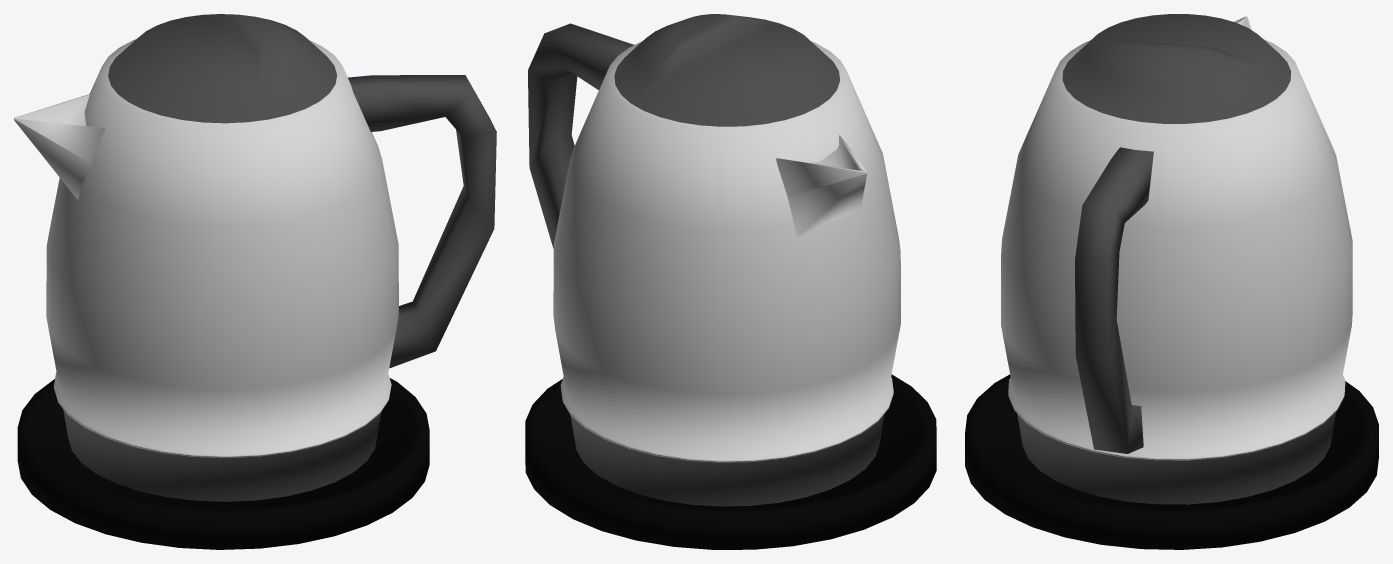
The model's file is KettleSep.glb.
3 renders of one model, left to right at view 1: azimuth 30°, elevation 25°; view 2: azimuth 150°, elevation 25°; view 3: azimuth 270°, elevation 25°, orthographic.
Visible parts, largest first — view 1: kettle.001, kettleBottom; view 2: kettle.001, kettleBottom; view 3: kettle.001, kettleBottom.
Boxes of the visible parts, bbox=[...] form: kettle.001: bbox=[14, 14, 496, 501]; kettleBottom: bbox=[17, 378, 429, 549]; kettle.001: bbox=[528, 14, 900, 506]; kettleBottom: bbox=[525, 374, 936, 549]; kettle.001: bbox=[1001, 14, 1352, 504]; kettleBottom: bbox=[965, 374, 1378, 549].
Bounding box in the file's own units: 0.2472 × 0.2438 × 0.2137.
1 material, 1 textured.
